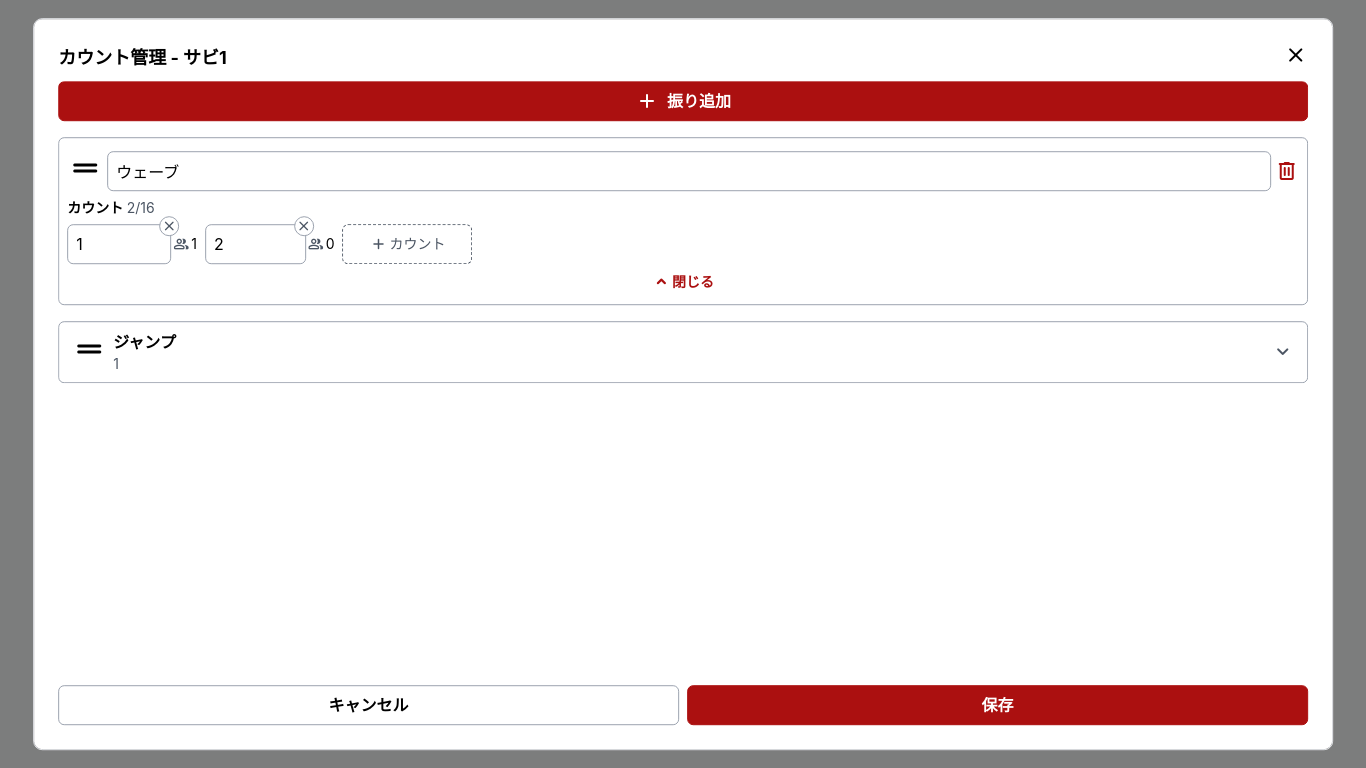
Test case: ActionManagerDialog deleting › shows a duplicate name under its card, on closed cards too
Replace the text in the 1st field showing "ウェーブ" with "ジャンプ" at (689, 171), box [107,151,1271,191]
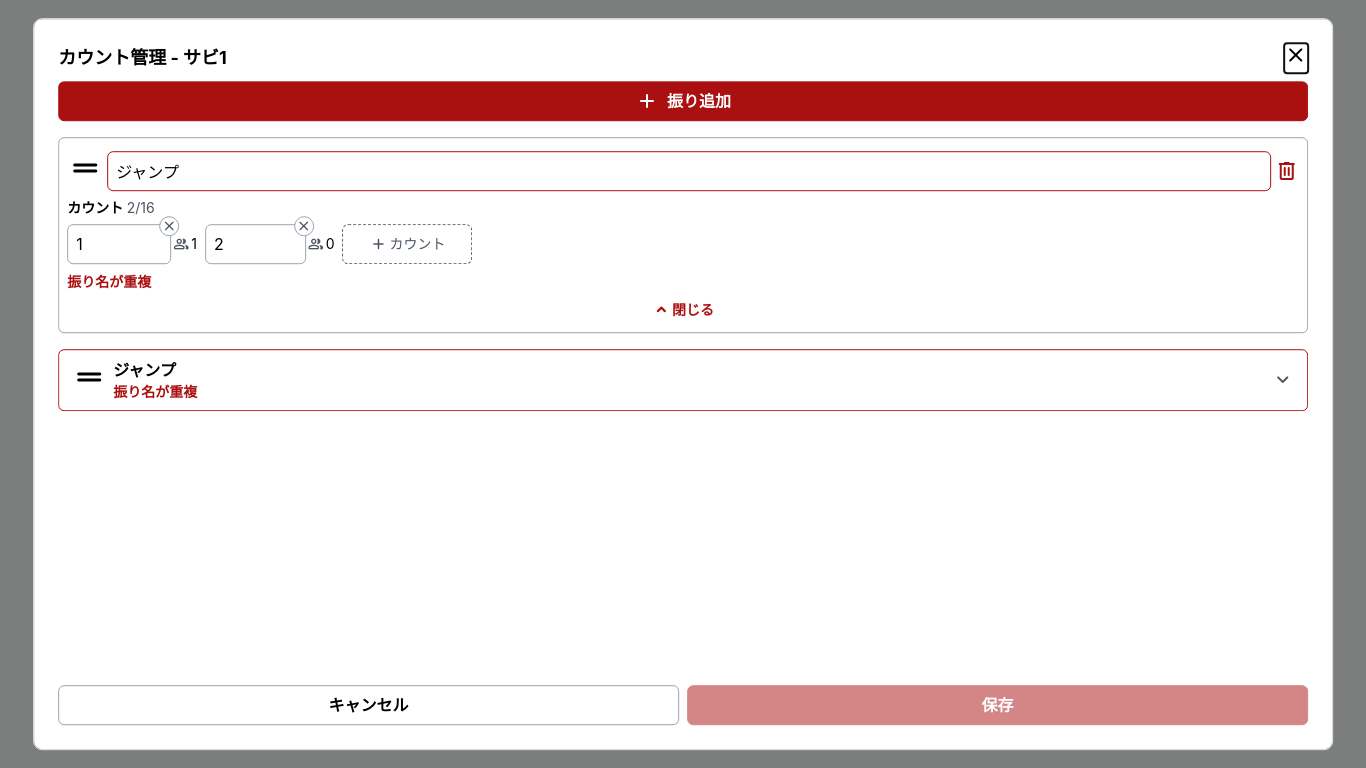
Now the text "振り名が重複" is shown 2 times, box [67,273,151,290]; [113,383,197,400]
Now the button "保存" is disabled, box [687,685,1308,725]
